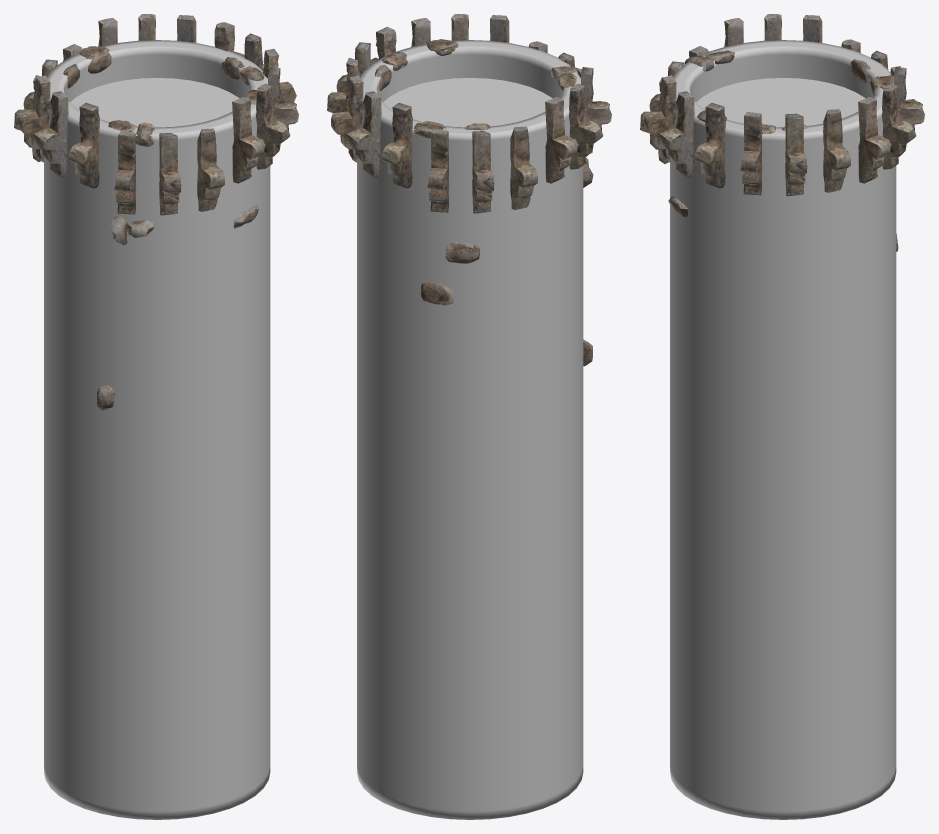
Rendered from SM_EntranceLargePillar03.FBX.
3 renders of one model, left to right at view 1: azimuth 30°, elevation 25°; view 2: azimuth 150°, elevation 25°; view 3: azimuth 270°, elevation 25°, orthographic.
Visible parts, largest first — view 1: SM_EntranceLargePillar03; view 2: SM_EntranceLargePillar03; view 3: SM_EntranceLargePillar03.
Boxes of the visible parts, bbox=[...] form: SM_EntranceLargePillar03: bbox=[14, 14, 298, 819]; SM_EntranceLargePillar03: bbox=[327, 14, 611, 819]; SM_EntranceLargePillar03: bbox=[640, 14, 924, 819].
Bounding box in the file's own units: 758 × 755 × 2064.
